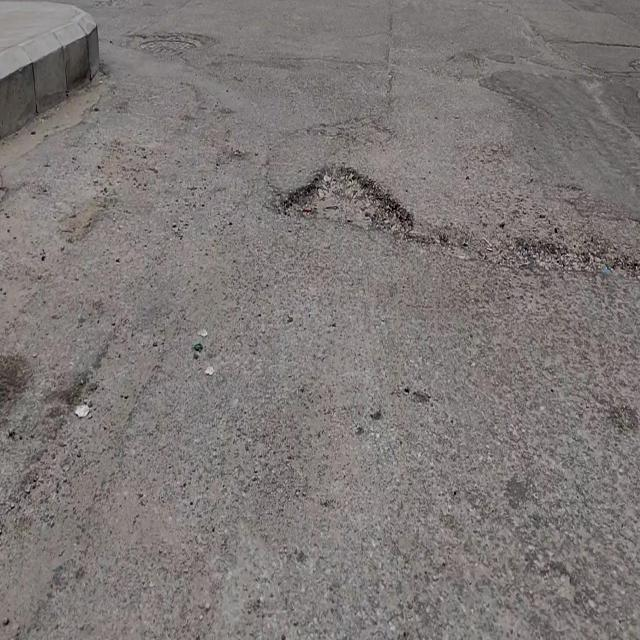Potholes: (283, 159, 415, 237)
